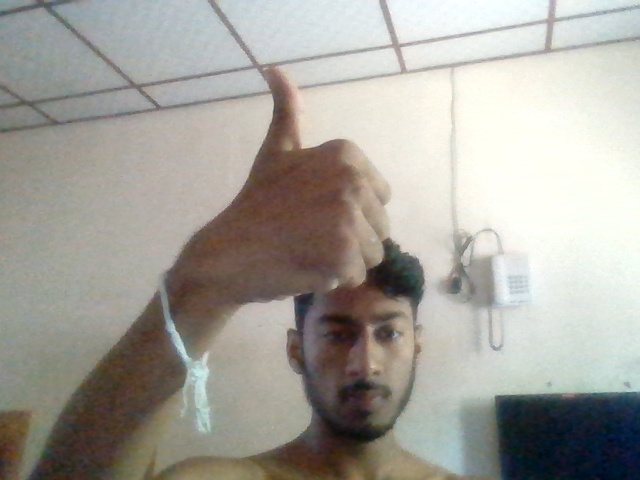ThumbsUp: (210, 65, 390, 302)
